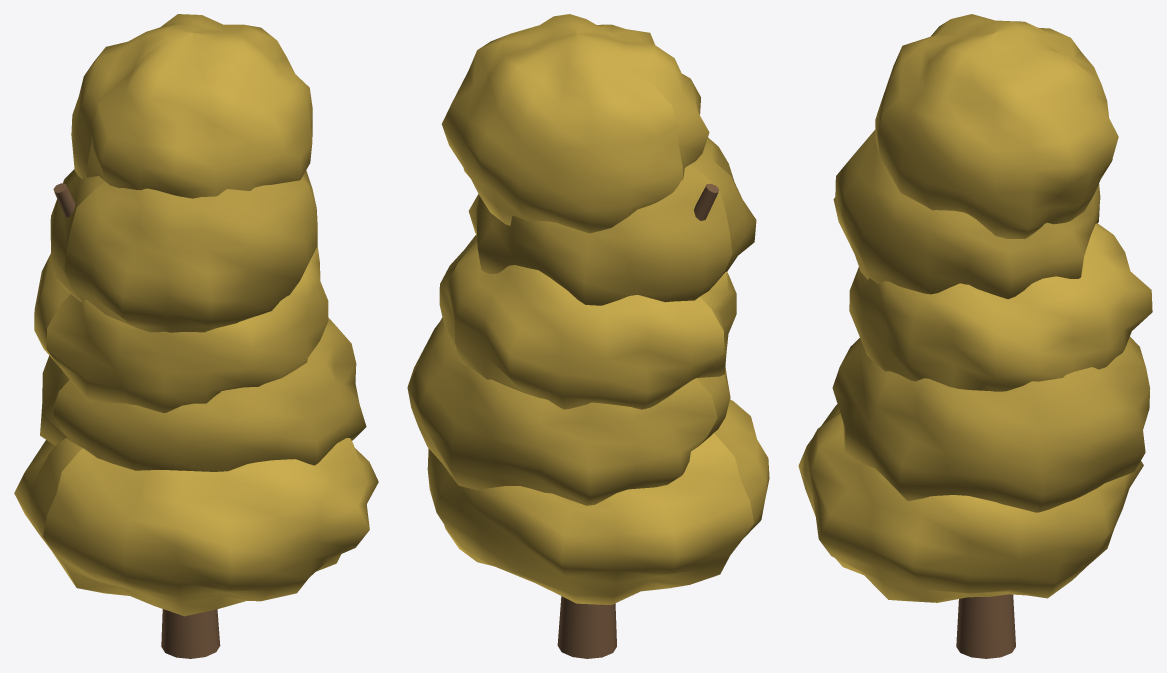
The model's file is oszlopos-diszalma-fa-osz.glb.
3 renders of one model, left to right at view 1: azimuth 30°, elevation 25°; view 2: azimuth 150°, elevation 25°; view 3: azimuth 270°, elevation 25°, orthographic.
Visible parts, largest first — view 1: oszlop-1, oszlop-5, oszlop-4, oszlop-2, oszlop-3, torzs; view 2: oszlop-5, oszlop-1, oszlop-3, oszlop-2, oszlop-4, torzs, vazag-3-5; view 3: oszlop-5, oszlop-2, oszlop-1, oszlop-3, oszlop-4, torzs.
Part boxes in pixels (bbox=[...]): oszlop-1: bbox=[14, 438, 378, 616]; oszlop-5: bbox=[71, 14, 312, 198]; oszlop-4: bbox=[50, 169, 317, 332]; oszlop-2: bbox=[40, 317, 366, 471]; oszlop-3: bbox=[34, 246, 328, 413]; torzs: bbox=[161, 609, 220, 658]; oszlop-5: bbox=[441, 14, 709, 233]; oszlop-1: bbox=[427, 399, 769, 604]; oszlop-3: bbox=[439, 235, 736, 409]; oszlop-2: bbox=[407, 317, 730, 505]; oszlop-4: bbox=[468, 137, 756, 305]; torzs: bbox=[557, 596, 616, 658]; vazag-3-5: bbox=[694, 183, 719, 220]; oszlop-5: bbox=[875, 14, 1118, 239]; oszlop-2: bbox=[832, 337, 1150, 512]; oszlop-1: bbox=[798, 404, 1143, 602]; oszlop-3: bbox=[849, 223, 1152, 391]; oszlop-4: bbox=[833, 130, 1100, 299]; torzs: bbox=[956, 594, 1015, 658].
Bounding box in the file's own units: 2.68 × 5.05 × 2.62.
